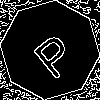P: (25, 25, 80, 81)
